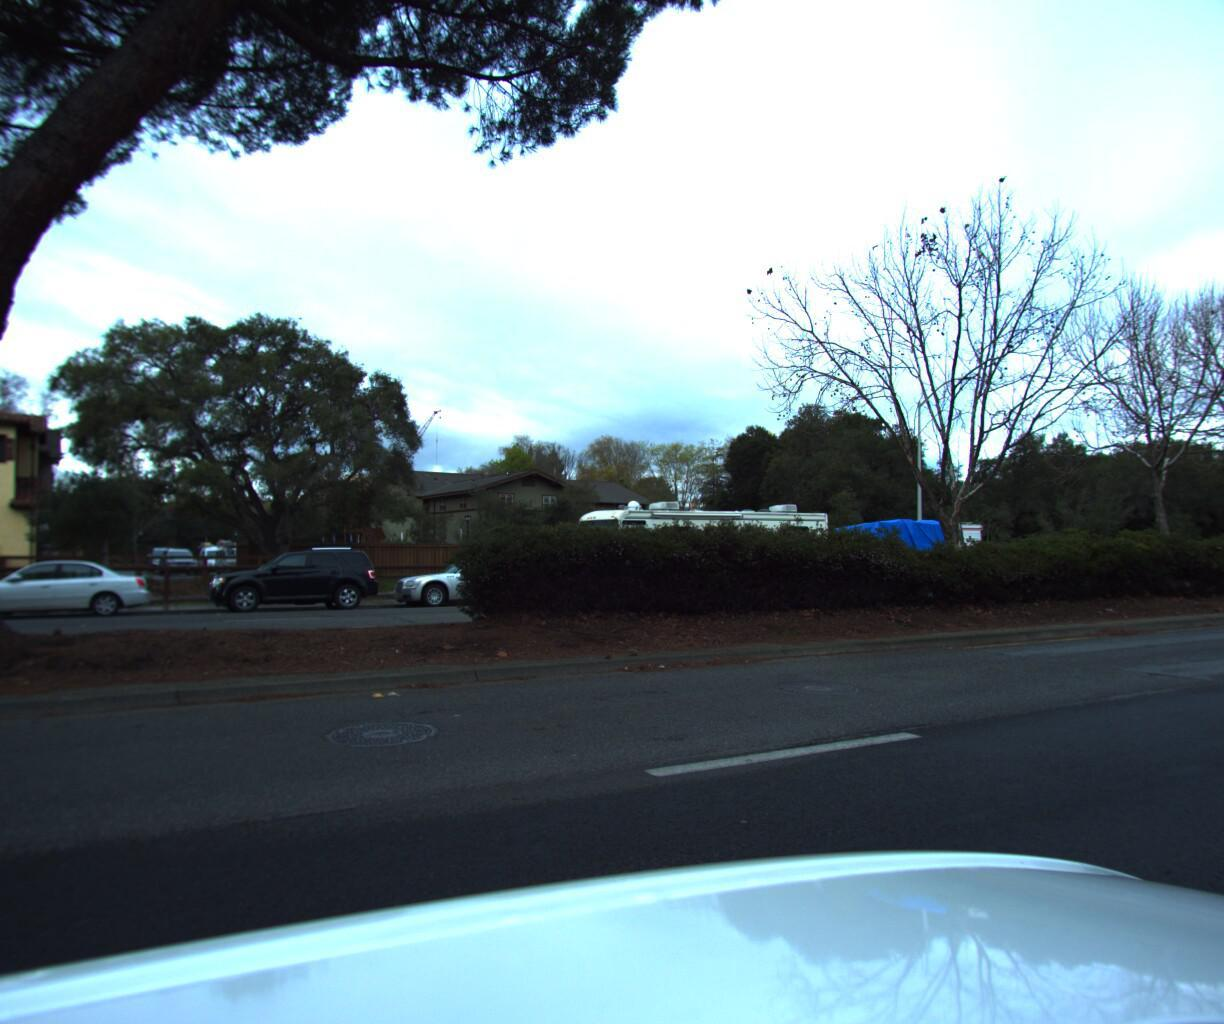car: (201, 543, 380, 614), (381, 551, 557, 612), (0, 555, 156, 622)
other_vehicle: (550, 484, 843, 603), (815, 508, 991, 592)
